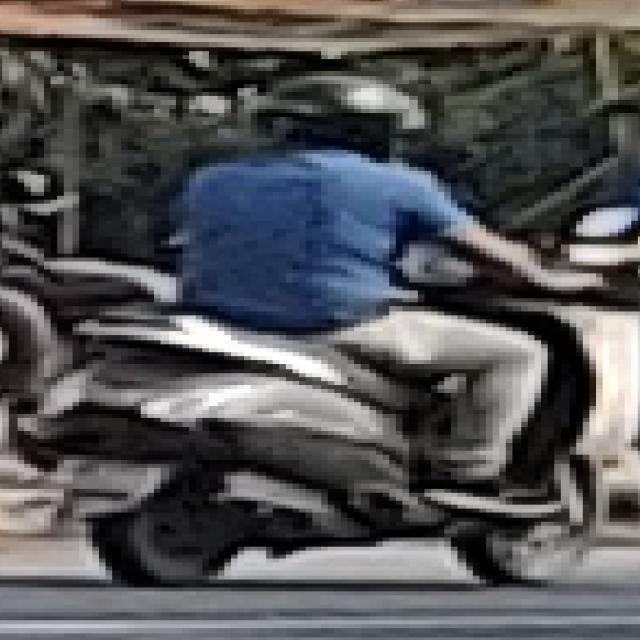Motorized2wheleer: (40, 195, 620, 594)
